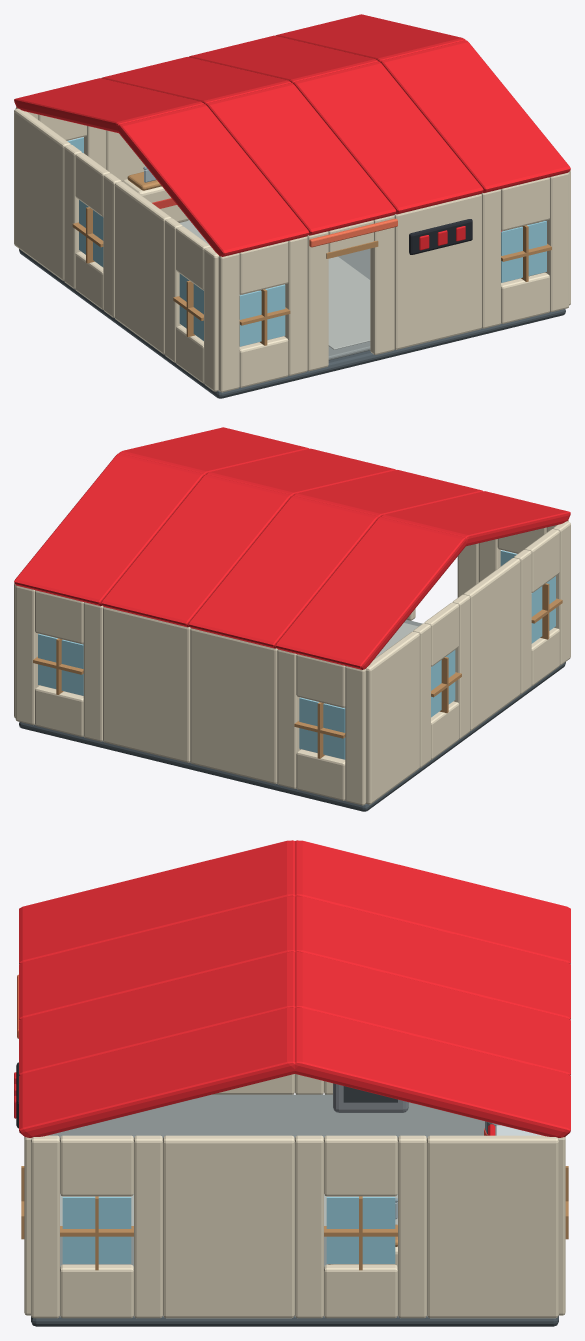
The model's file is FTF_Building_TeamKitchen_Red_8x8m.glb.
3 views of the same model, one above another, from view 1: azimuth 30°, elevation 25°; view 2: azimuth 150°, elevation 25°; view 3: azimuth 270°, elevation 25° (orthographic). The views are drawn at different scales.
Visible parts, largest first — view 1: SM_FTF_Building_Roof_2m_Slope_00, SM_FTF_Building_Roof_2m_Slope_00.002, SM_FTF_Building_Roof_2m_Slope_00.003, SM_FTF_Building_Roof_2m_Slope_00.001, SM_FTF_Building_Wall_2m_Body, SM_FTF_Building_Wall_2m_Body.004, SM_FTF_Building_Wall_2m_Body.003, SM_FTF_Building_Roof_2m_Slope_01, SM_FTF_Building_Roof_2m_Slope_01.003, SM_FTF_Building_Roof_2m_Slope_01.002, SM_FTF_Building_Roof_2m_Slope_01.001, Red_MainAisle (+31 smaller); view 2: SM_FTF_Building_Roof_2m_Slope_01, SM_FTF_Building_Roof_2m_Slope_01.001, SM_FTF_Building_Roof_2m_Slope_01.002, SM_FTF_Building_Roof_2m_Slope_01.003, SM_FTF_Building_Wall_2m_Body.001, SM_FTF_Building_Wall_2m_Body.002, SM_FTF_Building_Wall_2m_Body.003, SM_FTF_Building_Wall_2m_Body.004, SM_FTF_Building_Roof_2m_Slope_00, SM_FTF_Building_Roof_2m_Slope_00.003, SM_FTF_Building_Roof_2m_Slope_00.001, SM_FTF_Building_Roof_2m_Slope_00.002 (+24 smaller); view 3: SM_FTF_Building_Wall_2m_Body.005, SM_FTF_Building_Wall_2m_Body.006, SM_FTF_Building_Roof_2m_Slope_00.003, SM_FTF_Building_Roof_2m_Slope_01.003, SM_FTF_Building_Roof_2m_Slope_00, SM_FTF_Building_Roof_2m_Slope_01, SM_FTF_Building_Roof_2m_Slope_00.001, SM_FTF_Building_Roof_2m_Slope_01.001, SM_FTF_Building_Roof_2m_Slope_00.002, SM_FTF_Building_Roof_2m_Slope_01.002, Red_Floor, SM_FTF_Building_Window_2m_Right.006 (+14 smaller).
Boxes of the visible parts, box(x1,y1,x2,y2) form: SM_FTF_Building_Roof_2m_Slope_00: box(118, 104, 309, 256); SM_FTF_Building_Roof_2m_Slope_00.002: box(293, 61, 483, 214); SM_FTF_Building_Roof_2m_Slope_00.003: box(380, 40, 570, 192); SM_FTF_Building_Roof_2m_Slope_00.001: box(206, 82, 396, 235); SM_FTF_Building_Wall_2m_Body: box(394, 194, 481, 349); SM_FTF_Building_Wall_2m_Body.004: box(114, 181, 171, 354); SM_FTF_Building_Wall_2m_Body.003: box(14, 108, 70, 280); SM_FTF_Building_Roof_2m_Slope_01: box(14, 78, 203, 133); SM_FTF_Building_Roof_2m_Slope_01.003: box(275, 14, 465, 61); SM_FTF_Building_Roof_2m_Slope_01.002: box(189, 35, 378, 82); SM_FTF_Building_Roof_2m_Slope_01.001: box(101, 57, 290, 104); Red_MainAisle: box(179, 220, 370, 349); SM_FTF_Building_Roof_2m_Slope_01: box(275, 517, 466, 669); SM_FTF_Building_Roof_2m_Slope_01.001: box(188, 495, 378, 648); SM_FTF_Building_Roof_2m_Slope_01.002: box(101, 474, 291, 627); SM_FTF_Building_Roof_2m_Slope_01.003: box(14, 453, 204, 605); SM_FTF_Building_Wall_2m_Body.001: box(103, 607, 190, 762); SM_FTF_Building_Wall_2m_Body.002: box(190, 628, 277, 783); SM_FTF_Building_Wall_2m_Body.003: box(366, 631, 419, 804); SM_FTF_Building_Wall_2m_Body.004: box(463, 558, 520, 730); SM_FTF_Building_Roof_2m_Slope_00: box(381, 491, 570, 546); SM_FTF_Building_Roof_2m_Slope_00.003: box(119, 427, 308, 474); SM_FTF_Building_Roof_2m_Slope_00.001: box(293, 470, 482, 517); SM_FTF_Building_Roof_2m_Slope_00.002: box(206, 448, 395, 495); SM_FTF_Building_Wall_2m_Body.005: box(163, 1135, 294, 1318); SM_FTF_Building_Wall_2m_Body.006: box(427, 1135, 558, 1318); SM_FTF_Building_Roof_2m_Slope_00.003: box(19, 1007, 295, 1137); SM_FTF_Building_Roof_2m_Slope_01.003: box(294, 1007, 570, 1137); SM_FTF_Building_Roof_2m_Slope_00: box(19, 840, 294, 963); SM_FTF_Building_Roof_2m_Slope_01: box(295, 840, 570, 963); SM_FTF_Building_Roof_2m_Slope_00.001: box(19, 896, 294, 1019); SM_FTF_Building_Roof_2m_Slope_01.001: box(295, 896, 570, 1019); SM_FTF_Building_Roof_2m_Slope_00.002: box(19, 952, 294, 1075); SM_FTF_Building_Roof_2m_Slope_01.002: box(295, 952, 570, 1075); Red_Floor: box(48, 1094, 484, 1266); SM_FTF_Building_Window_2m_Right.006: box(134, 1135, 162, 1318).
Bounding box in the file's own units: 8.29 × 4.45 × 8.44.
